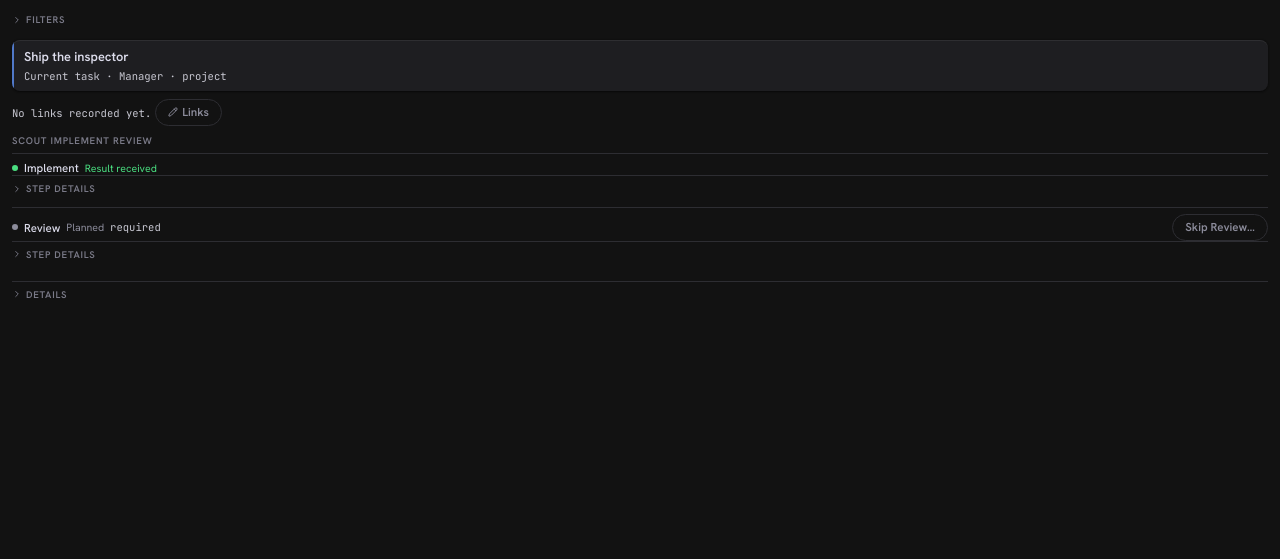
Test: compact default view › exposes ids behind Details with a copy affordance
This screenshot has width=1280, height=559.
What coordinates should you click on to do the following:
click the heading "Details"
I would click on:
 (40, 294)
Its box is [12,288,67,300].
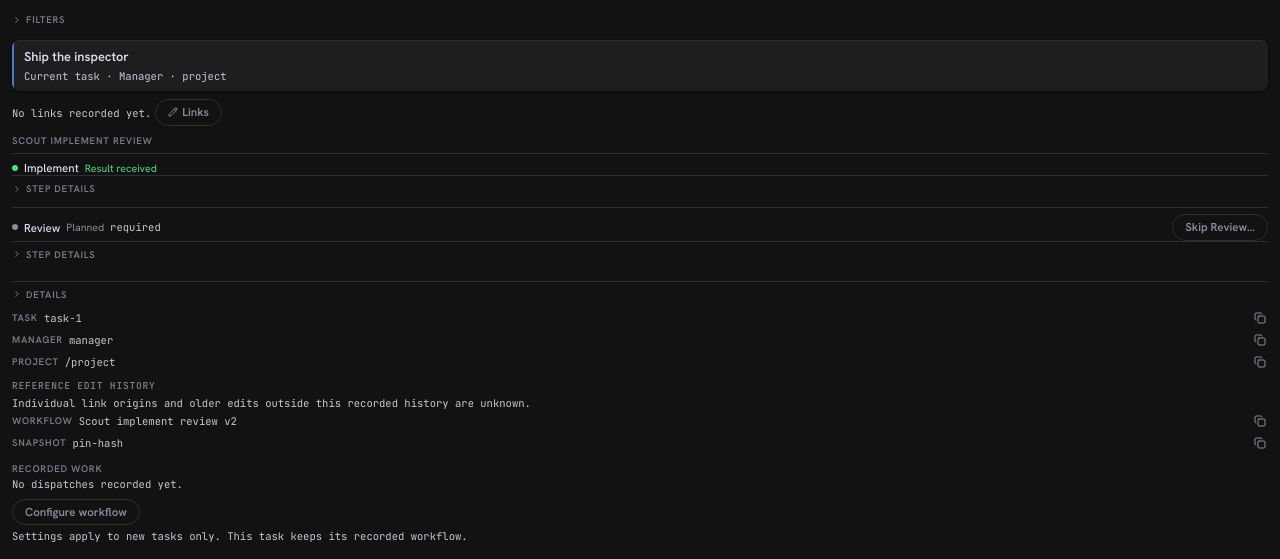
Check: the text "task-1" is shown, box [44,310,82,324]
Check: the button named "Copy task" is shown, box [1252,310,1268,326]
Check: the button named "Copy project" is shown, box [1252,354,1268,370]
